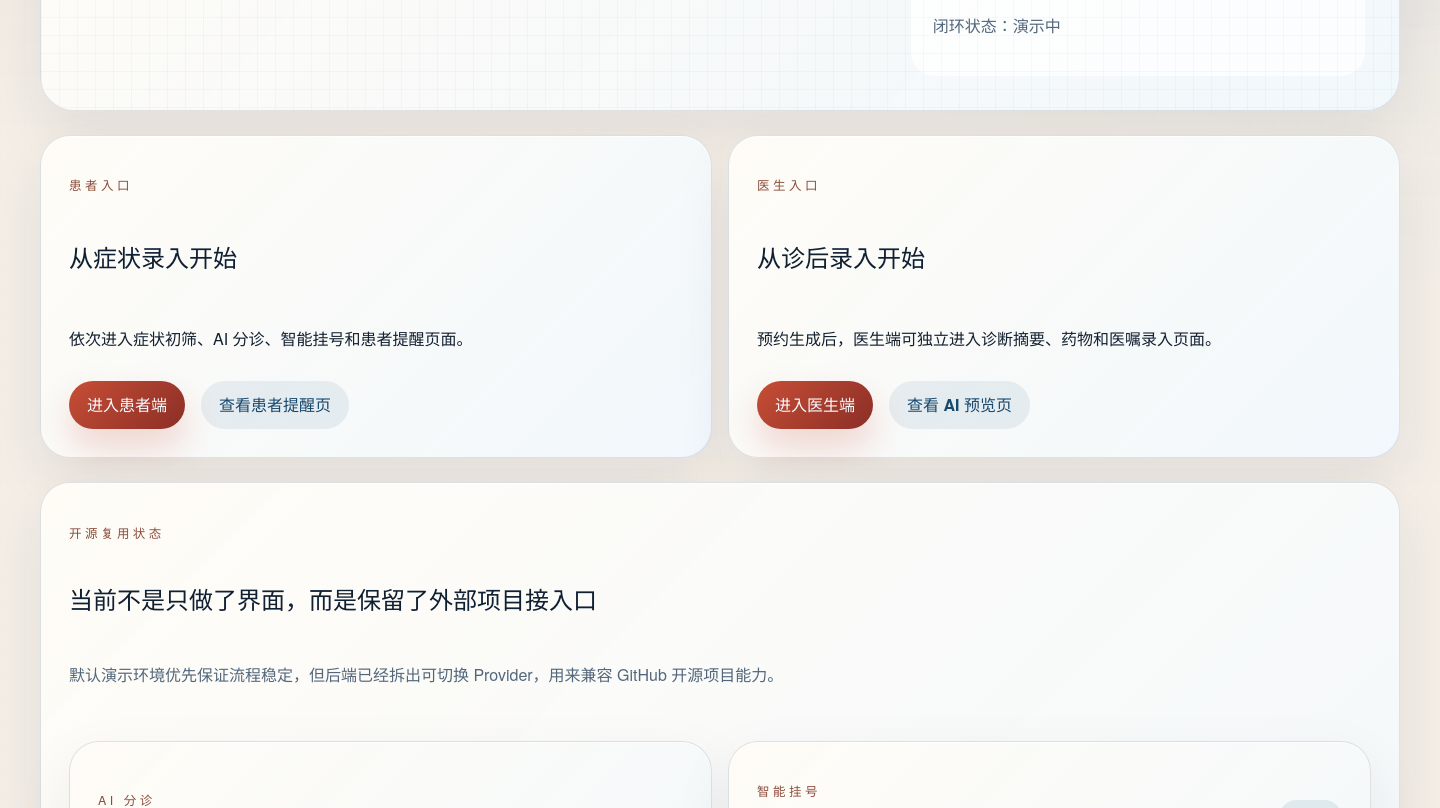
App › shows validation hint on patient intake route before required fields are filled
(page scrolled)
What coordinates should you click on to do the following:
click the link "进入患者端"
I would click on:
 (127, 405)
Its box is [69,381,185,429].
(page scrolled)
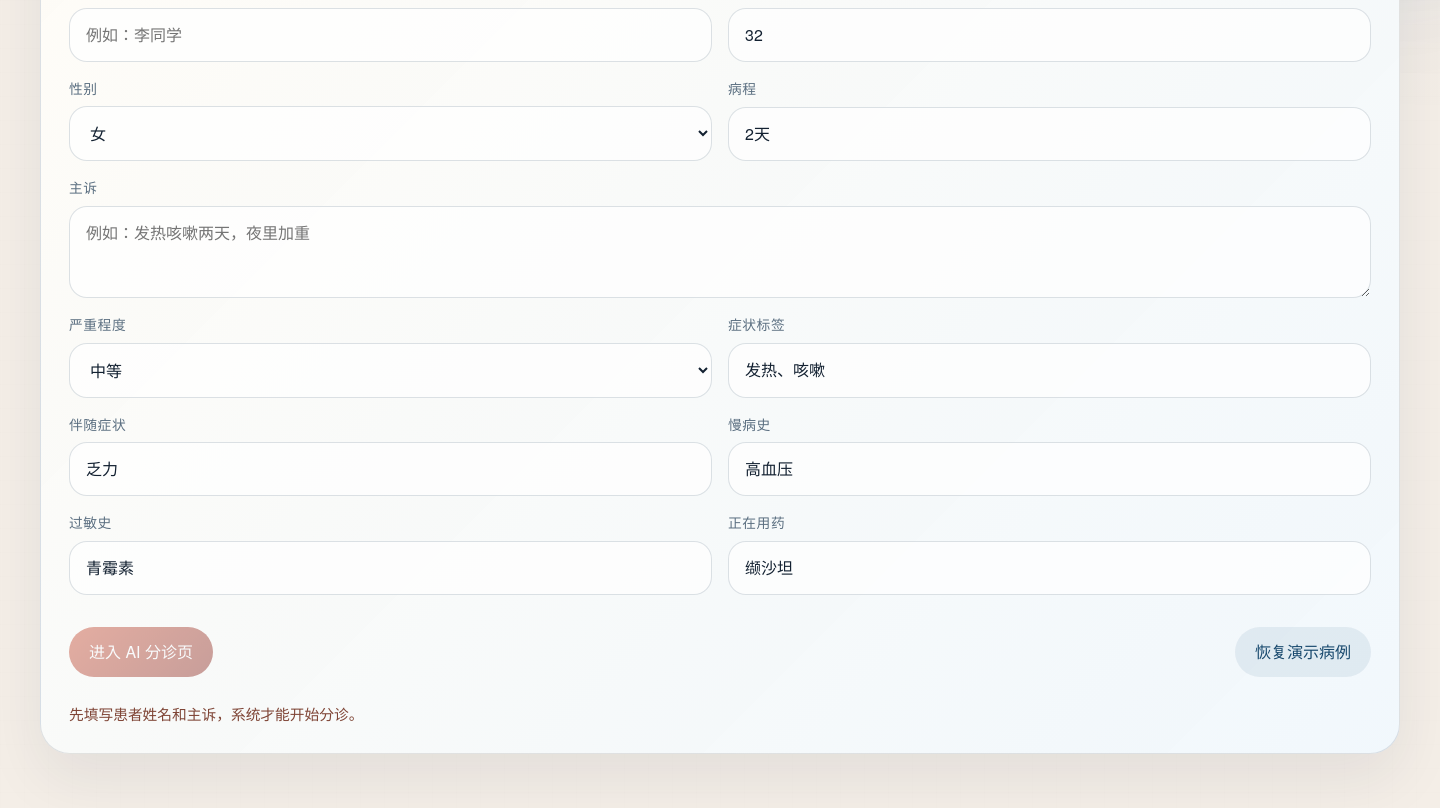
Now the button "进入 AI 分诊页" is disabled, box [69,627,213,677]
Now the text "先填写患者姓名和主诉，系统才能开始分诊。" is shown, box [69,703,363,724]
